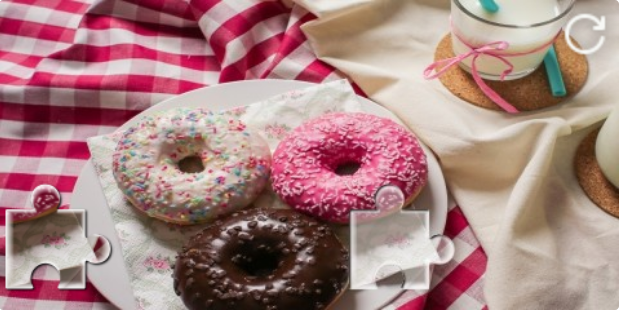target: (350, 185, 454, 291)
